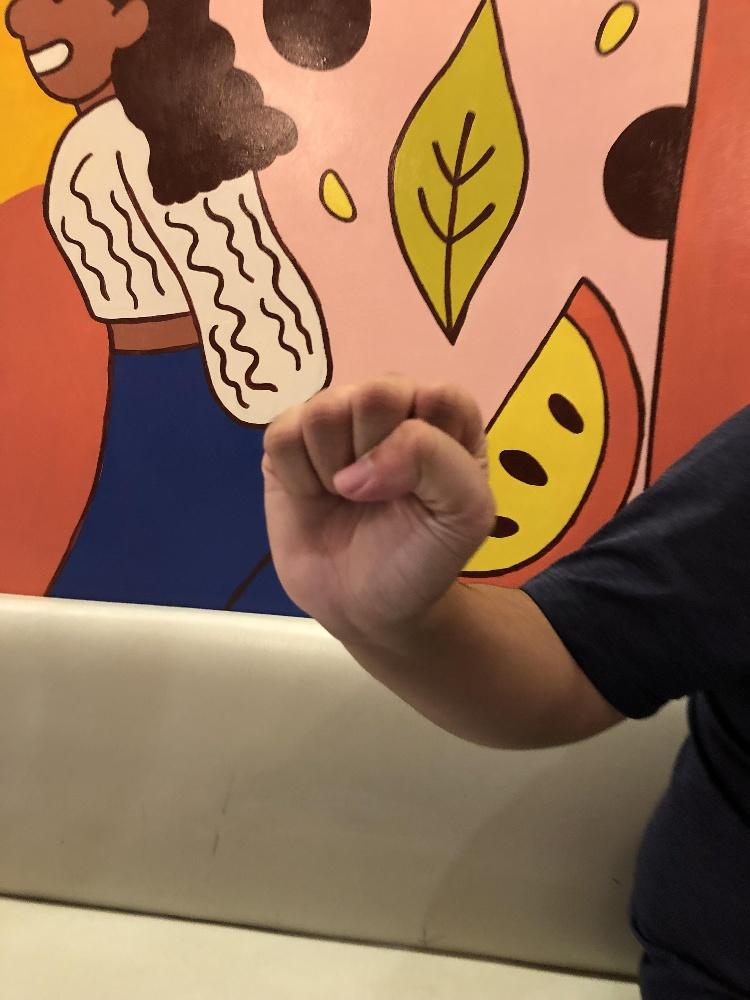s: (259, 372, 499, 634)
